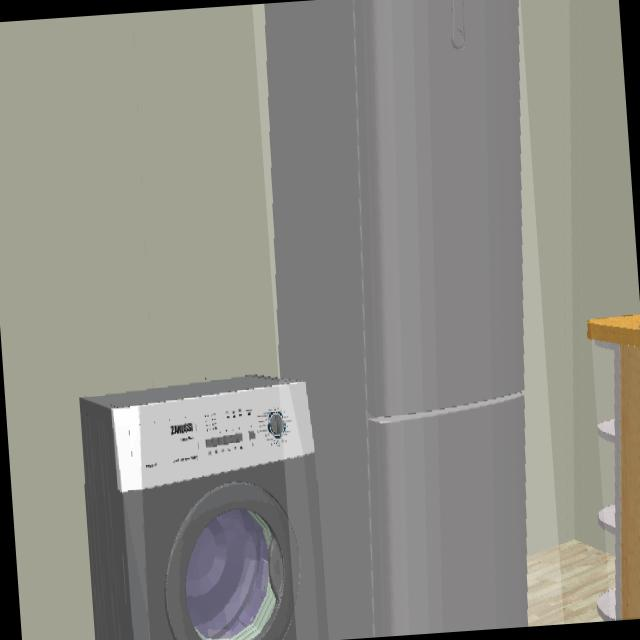cabinet: (591, 315, 640, 619)
fridge: (263, 0, 529, 640)
